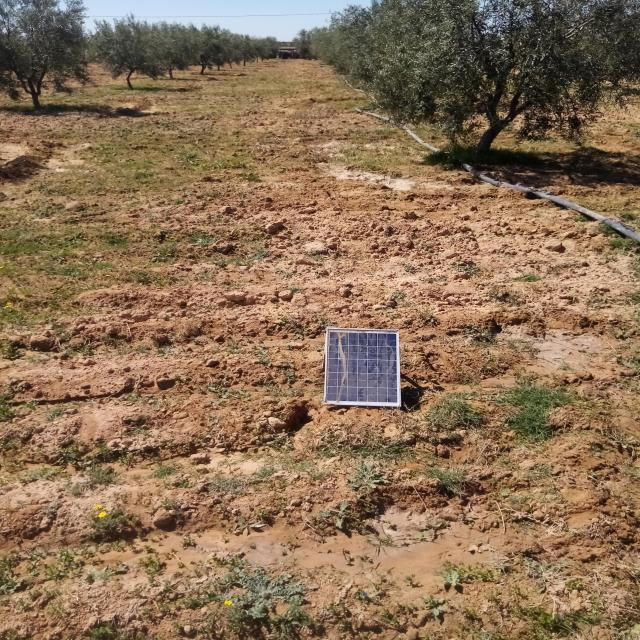faulty: (325, 328, 400, 406)
